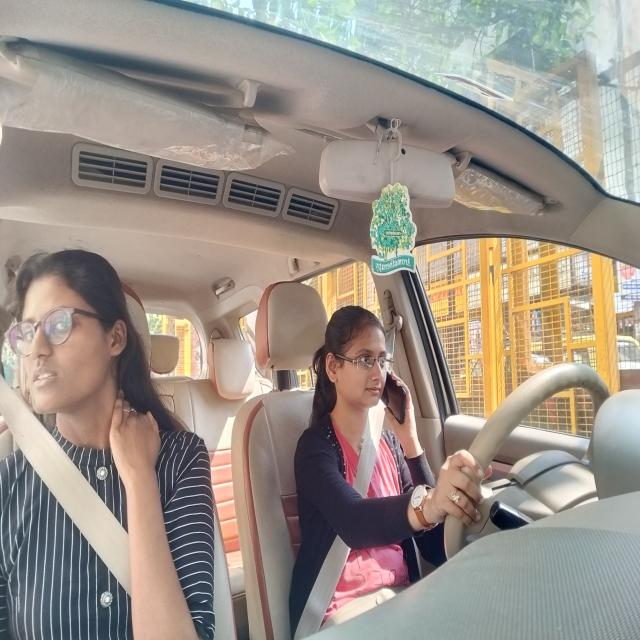mobile: (380, 366, 410, 435)
person: (6, 246, 132, 428), (317, 303, 388, 419)
